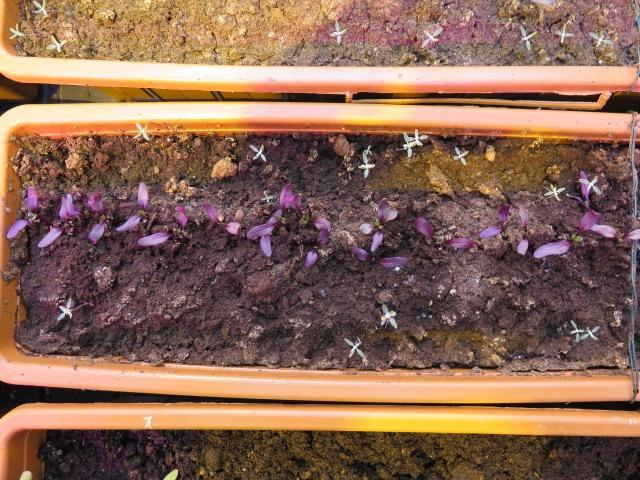weed: (586, 23, 614, 51), (325, 15, 348, 46), (340, 334, 366, 361), (417, 24, 444, 50), (376, 299, 398, 330), (516, 22, 538, 53), (552, 17, 574, 47), (540, 179, 566, 203), (54, 293, 74, 323), (42, 31, 67, 52), (247, 139, 267, 165), (449, 143, 471, 166), (130, 118, 149, 144), (7, 21, 25, 40), (258, 187, 273, 204)
